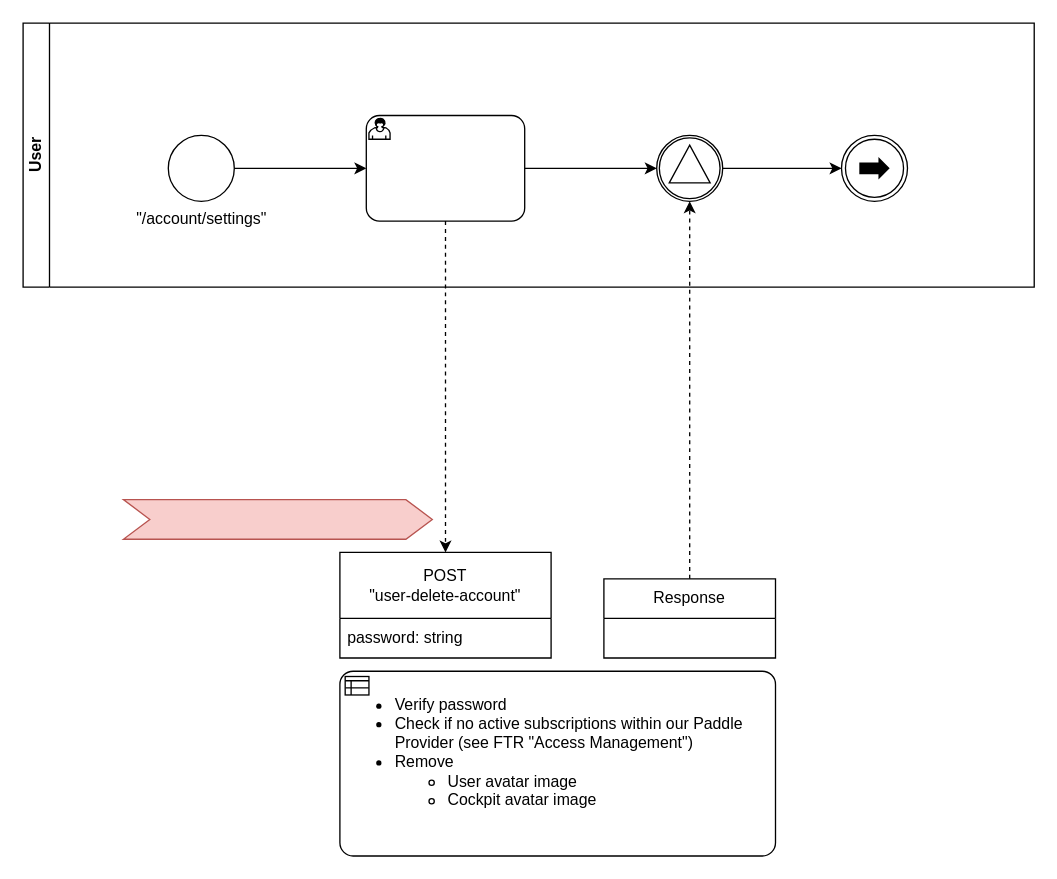
Image size: 1057x879. Some labels were removed from this diagram. Here are the shapes that lost their labels. From the top down, the centre of each, then its label:
[445,167]: User delets account
[874,167]: logout()
[277,518]: "paddle_no_active_subscriptions "
